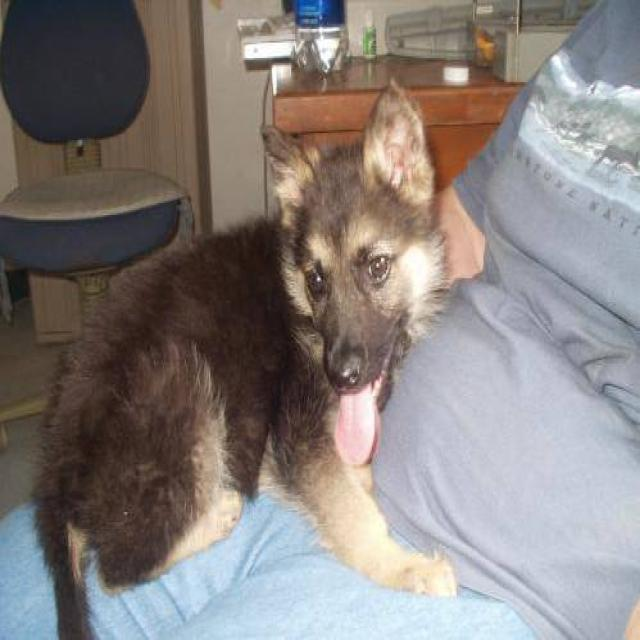dog: (30, 75, 459, 638)
